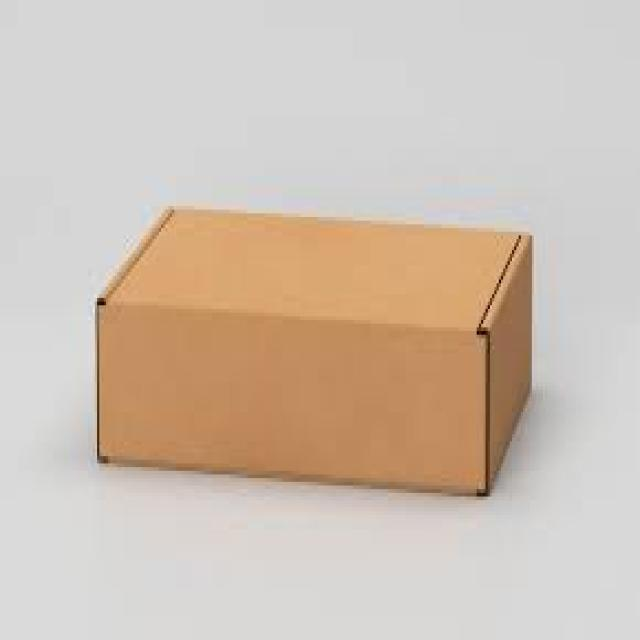cardboard: (98, 210, 531, 492)
